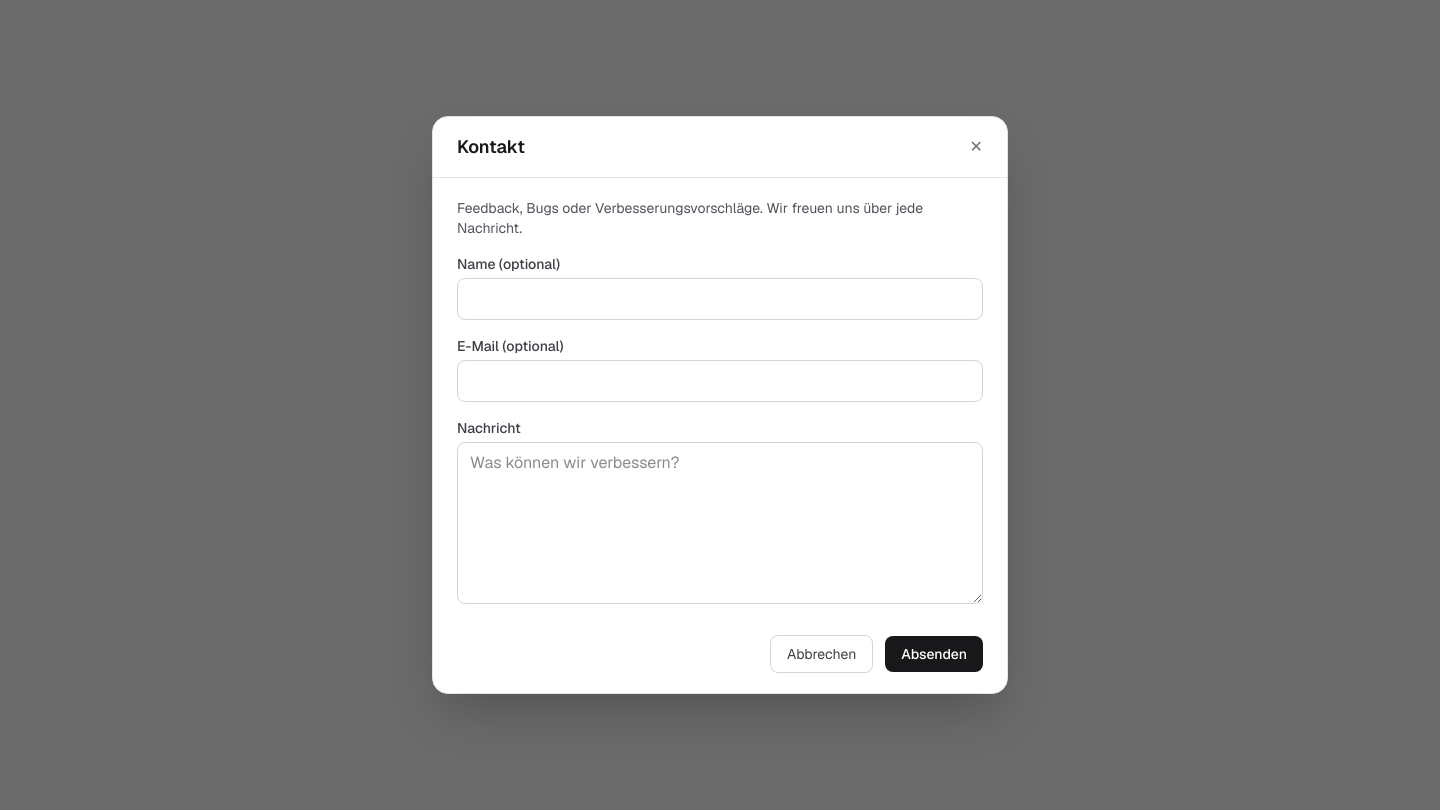
ContactModal › zeigt Fehler bei fehlgeschlagenem Submit
Type "Das ist ein valider Feedbacktext mit ausreichender Länge." into the text box labelled "Nachricht" at (720, 523), box [457,442,983,604]
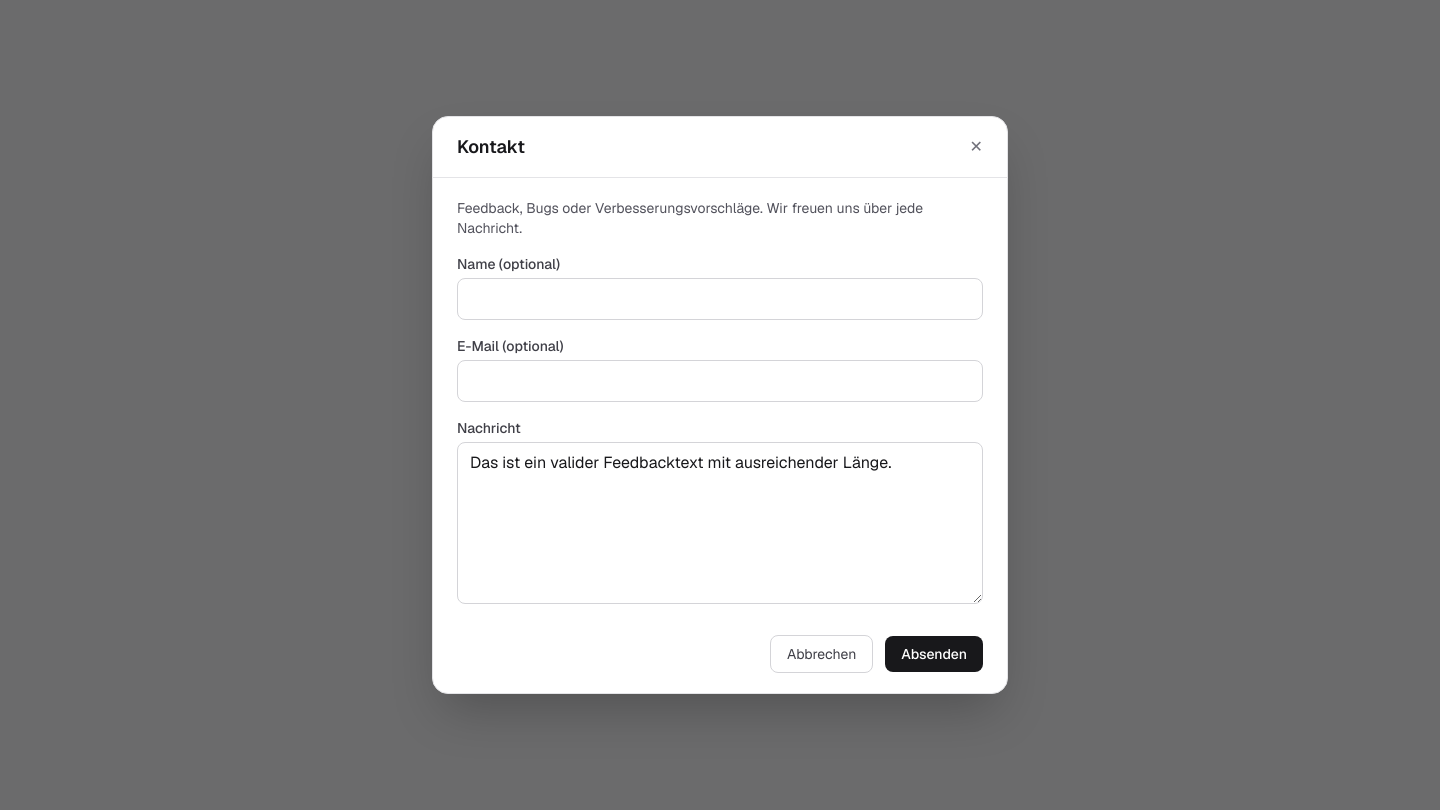
Click the button "Absenden" at (934, 654), box [885,636,983,672]
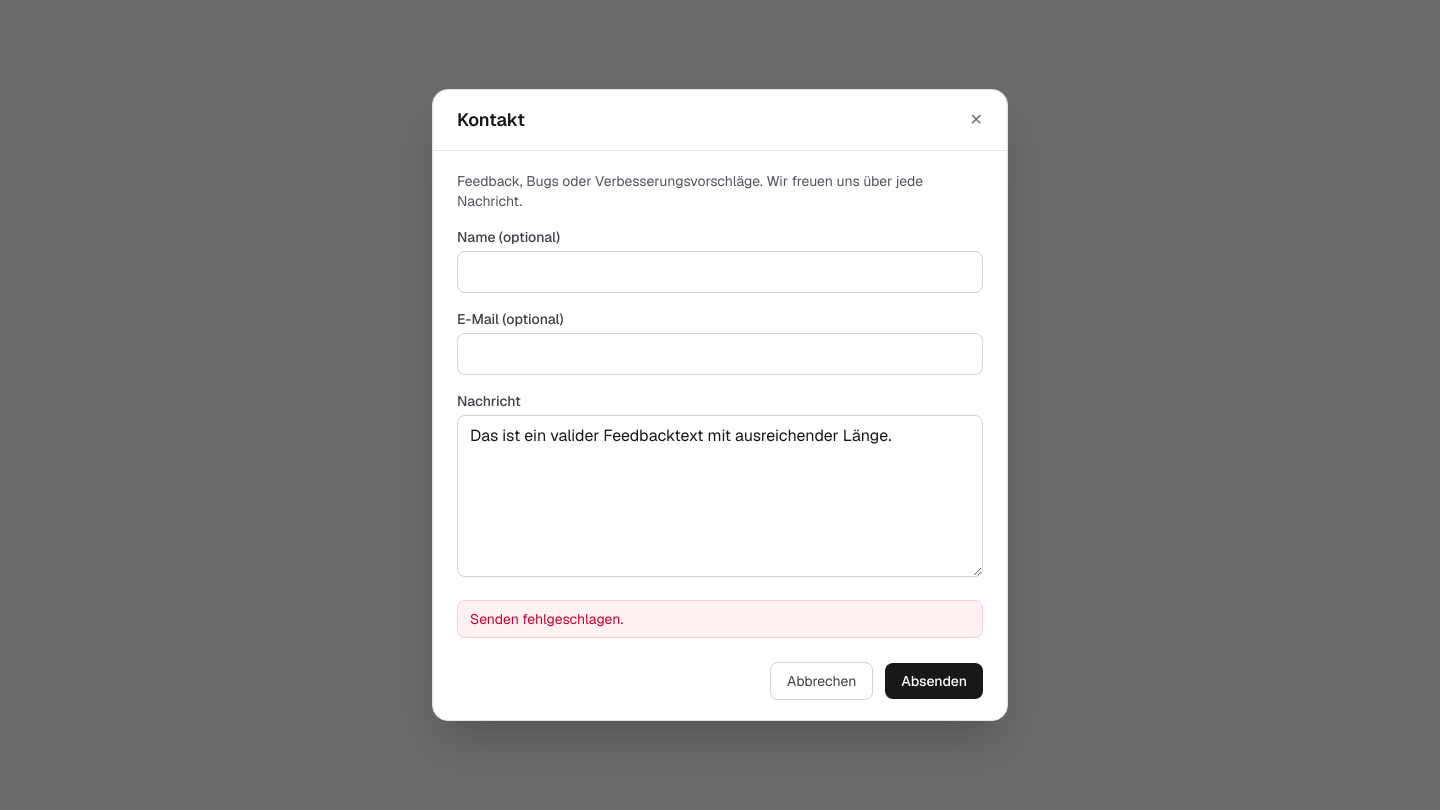
Check: the text "Senden fehlgeschlagen." is shown, box [457,600,983,638]
